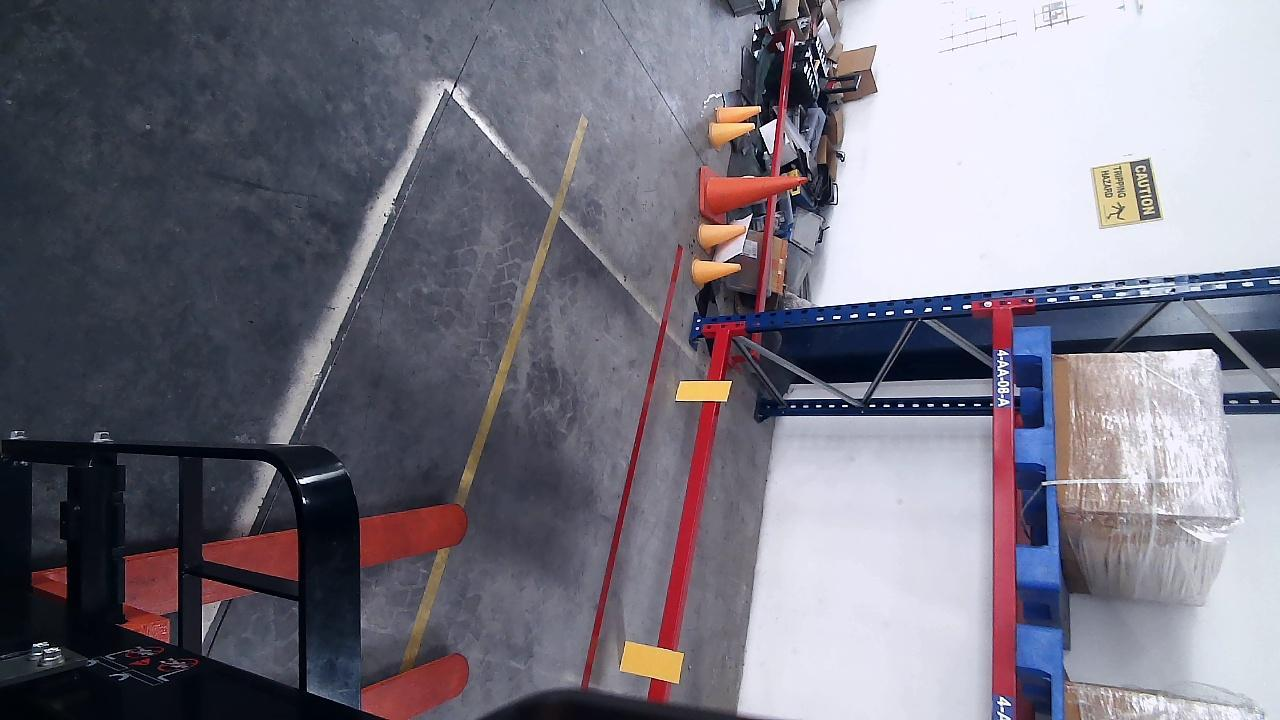h_rack: (647, 332, 728, 701), (991, 309, 1018, 720)
orange_strip: (621, 638, 685, 681), (674, 380, 732, 401)
red_line: (581, 243, 686, 689)
small_pallet: (1014, 327, 1055, 586), (1016, 624, 1061, 720)
yellow_line: (453, 112, 592, 509)
